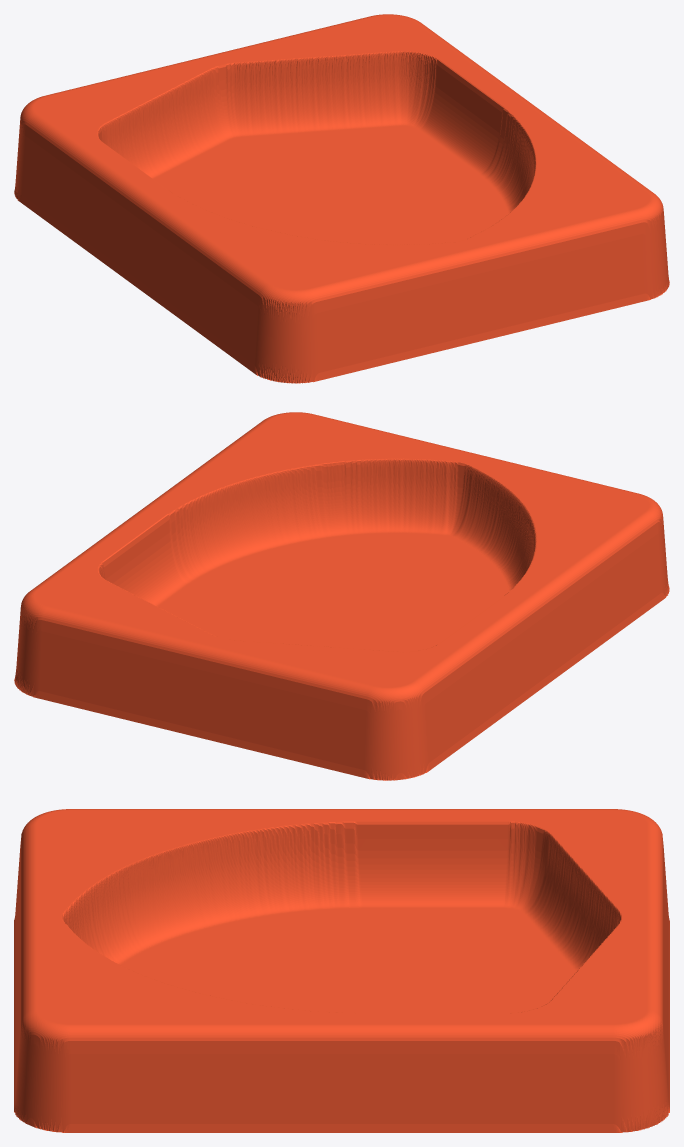
The model's file is mold.glb.
The picture shows the model from 3 angles, top to bottom: view 1: azimuth 30°, elevation 25°; view 2: azimuth 150°, elevation 25°; view 3: azimuth 270°, elevation 25°; orthographic projection. The views are drawn at different scales.
Visible parts, largest first — view 1: geometry_0; view 2: geometry_0; view 3: geometry_0.
Part boxes in pixels (bbox=[...]): geometry_0: bbox=[14, 14, 669, 383]; geometry_0: bbox=[14, 412, 669, 780]; geometry_0: bbox=[14, 809, 669, 1132].
Size of the model in its own units: 0.0882 by 0.0175 by 0.105.
